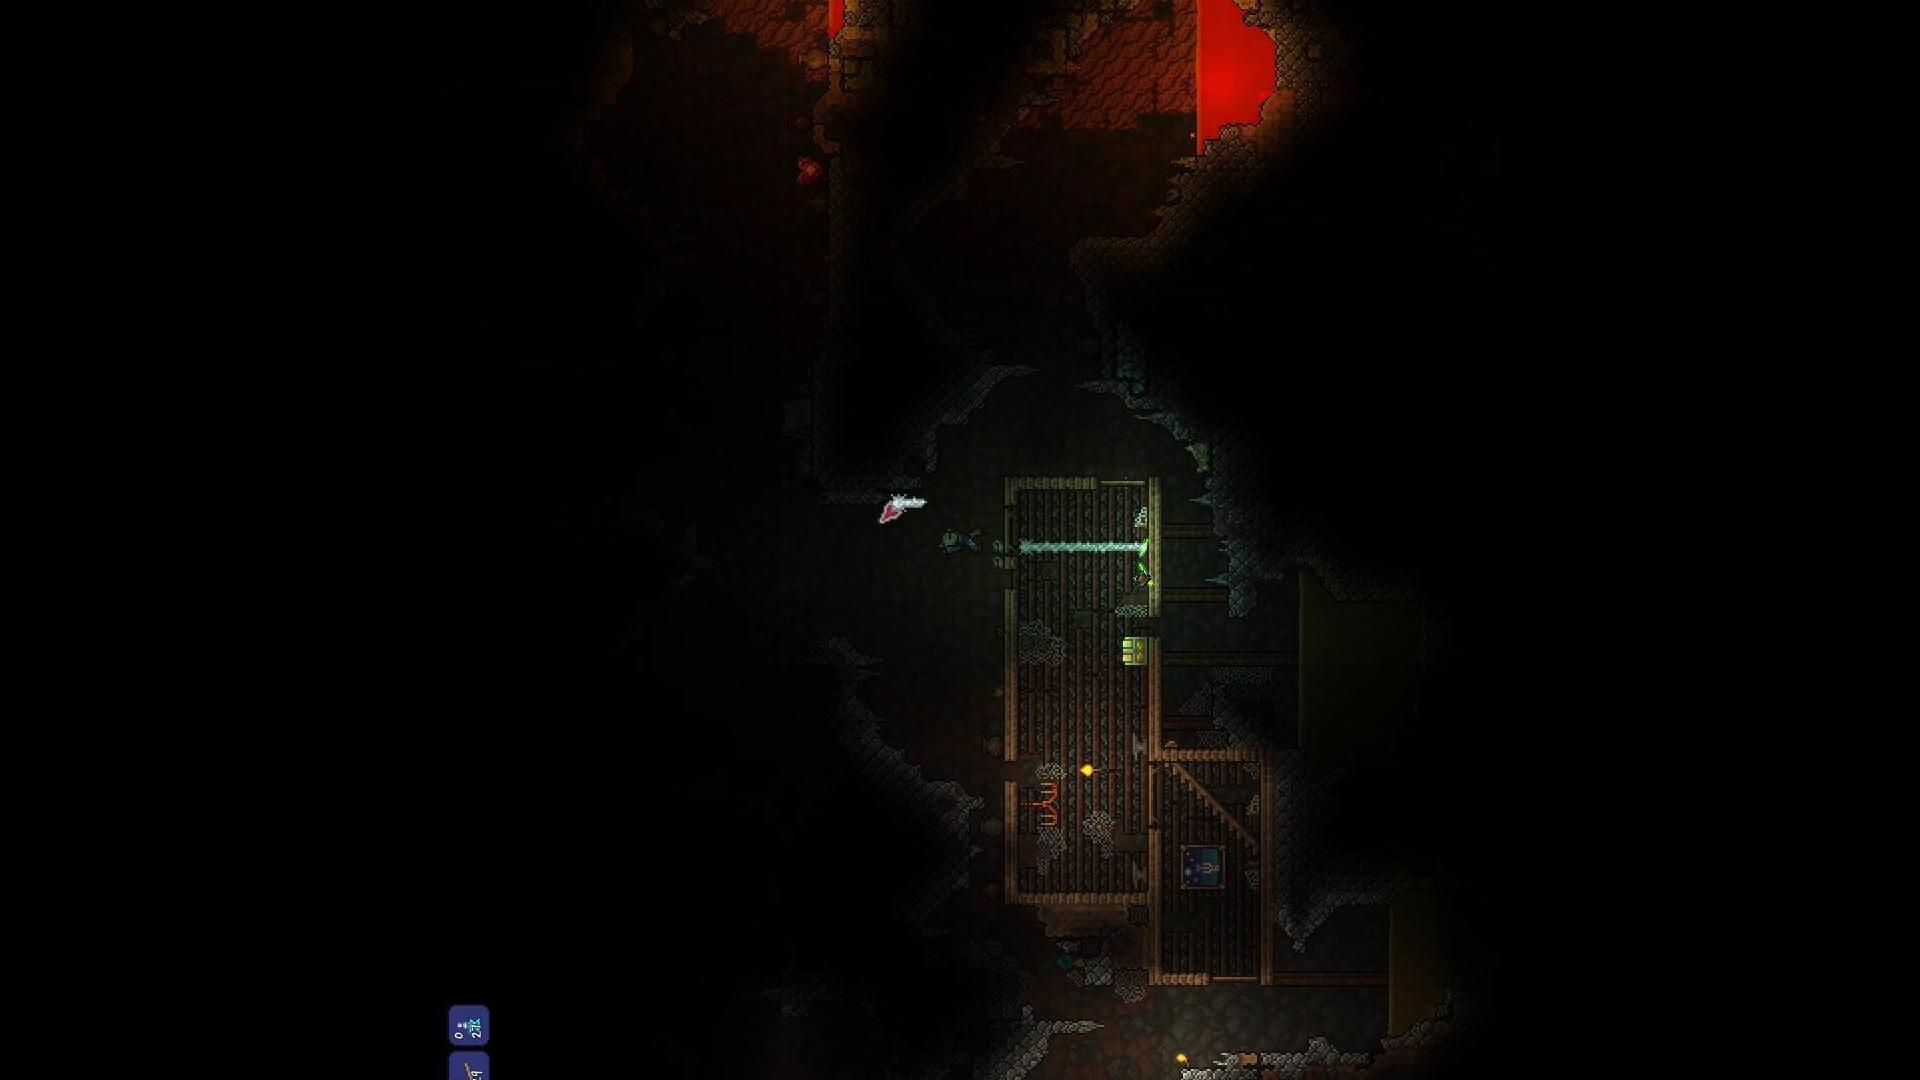anvil: (1126, 728, 1147, 764)
chest: (1116, 633, 1145, 667)
platform: (1143, 764, 1160, 827), (997, 505, 1015, 554), (459, 1058, 477, 1080)
torchT: (1076, 761, 1098, 781), (1172, 1050, 1192, 1067)
